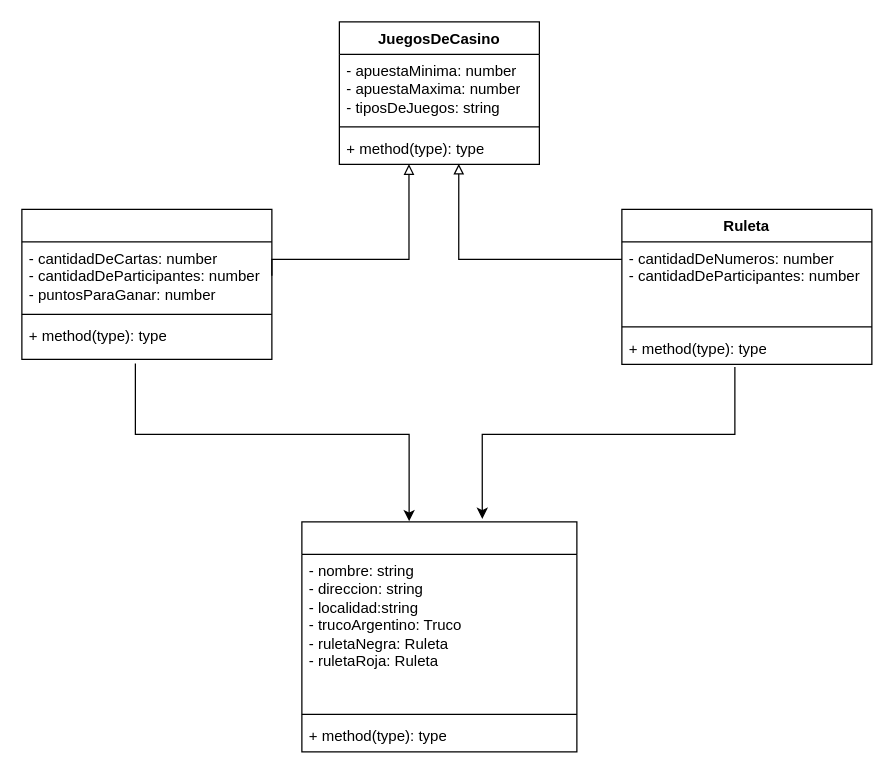
The diagram is 894 pixels wide and 778 high, and some of its shapes have lost their labels. Here are the shapes that lost their labels. From the top down, the box of each, then its label:
(21, 208, 272, 359): Truco
(301, 521, 577, 752): Casino
